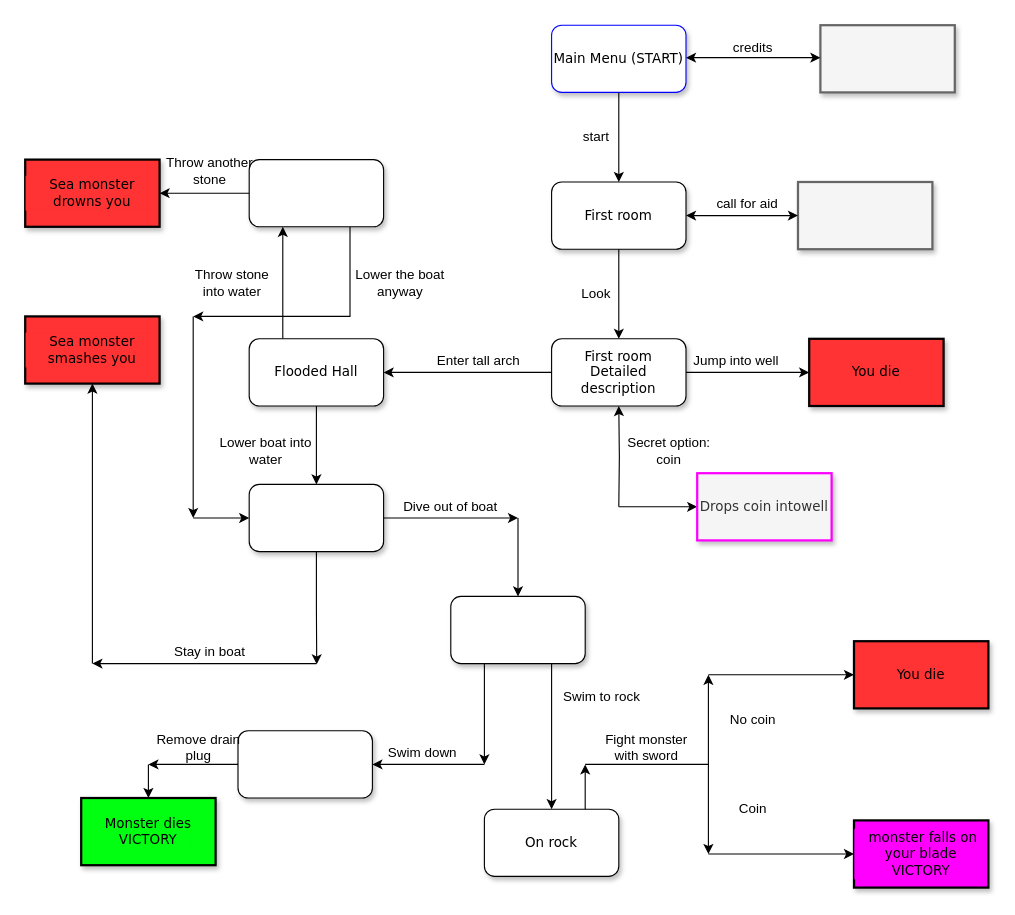
The diagram is 1015 pixels wide and 915 high, and some of its shapes have lost their labels. The centre of each missing label's shape, as x and y in pixels:
"Credits Screen" belongs at (888,60).
"Encounter Sea Monster" belongs at (317,519).
"In water" belongs at (518,631).
"No one responds" belongs at (866,217).
"Nothing happens" belongs at (317,194).
"See drain" belongs at (305,765).
